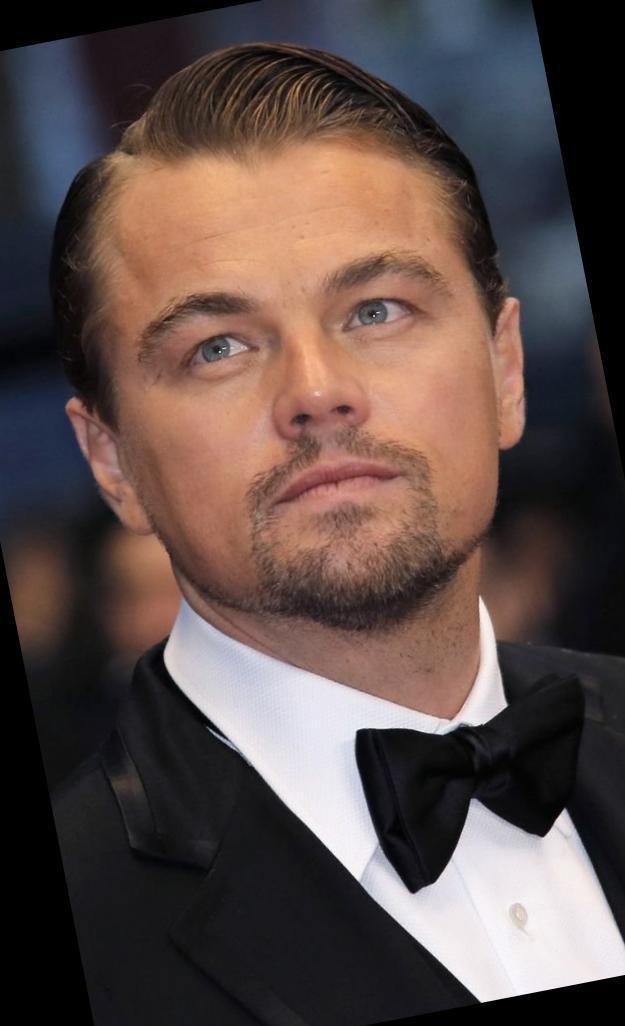Sober: (125, 178, 497, 568)
